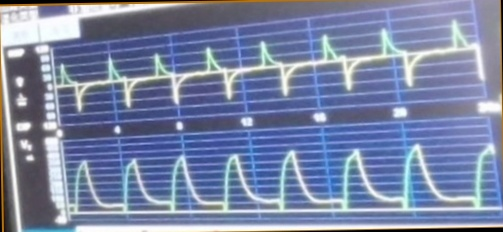Flow: (57, 21, 468, 112)
Leakage Volume: (70, 140, 493, 218)
